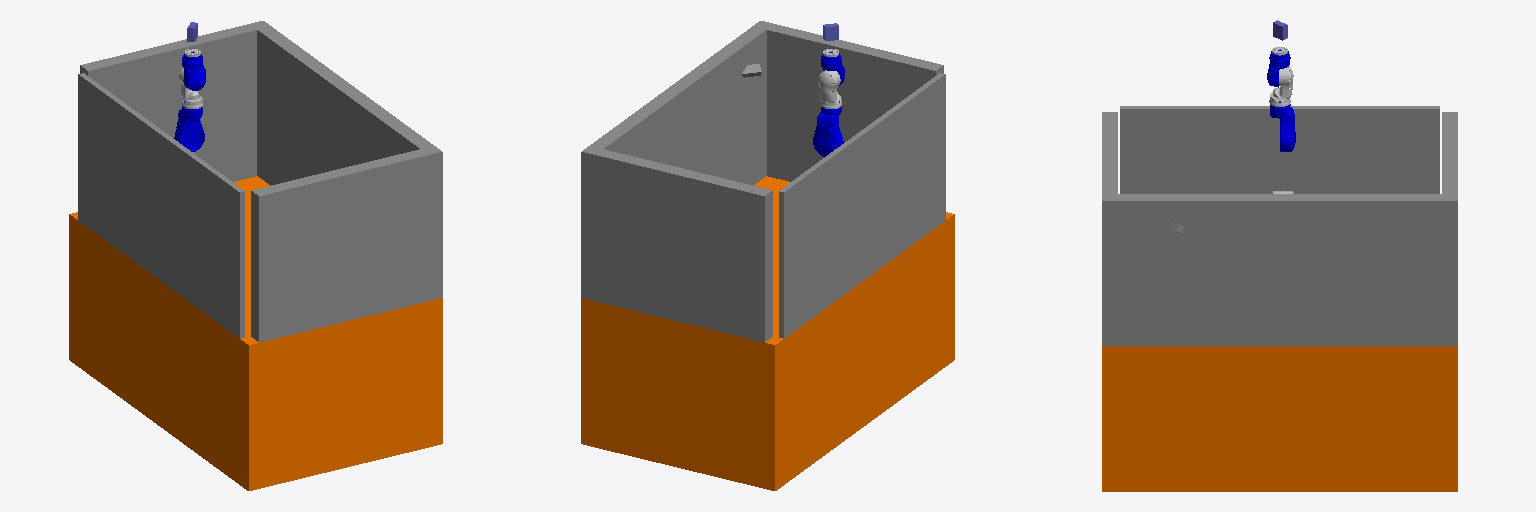
The robot description file, URDF, robot "mantis_sia20d":
<?xml version="1.0" ?>
<!-- =================================================================================== -->
<!-- |    This document was autogenerated by xacro from urdf/mantis_sia20d_arm_workspace.xacro | -->
<!-- |    EDITING THIS FILE BY HAND IS NOT RECOMMENDED                                 | -->
<!-- =================================================================================== -->
<robot name="mantis_sia20d" xmlns:xacro="http://ros.org/wiki/xacro">
  <material name="yellow_transparent">
    <color rgba="0 1 1 0.4"/>
  </material>
  <material name="orange_transparent">
    <color rgba="1 0.5 0 0.4"/>
  </material>
  <material name="gray_transparent">
    <color rgba="0.6 0.6 0.6 0.4"/>
  </material>
  <material name="blue_transparent">
    <color rgba="0 0.8 1 0.4"/>
  </material>
  <link name="workcell_frame"/>
  <!-- property list -->
  <!--xacro:property name="arm1_prefix" value=""/-->
  <!-- instantiating workcell definitions -->
  <link name="table_base1">
    <visual>
      <origin rpy="0 0 0" xyz="0 0 -0.5"/>
      <geometry>
        <box size="1.3875 2.22 1"/>
      </geometry>
      <material name="orange_transparent"/>
    </visual>
    <collision>
      <origin rpy="0 0 0" xyz="0 0 -0.5"/>
      <geometry>
        <box size="1.3875 2.22 1"/>
      </geometry>
      <material name="blue_transparent"/>
    </collision>
  </link>
  <joint name="workcell_to_table_base1" type="fixed">
    <parent link="workcell_frame"/>
    <child link="table_base1"/>
    <origin rpy="0 0 0" xyz="0.69375 0 0"/>
  </joint>
  <link name="front_wall1">
    <visual>
      <geometry>
        <box size="0.1 2.22 1"/>
      </geometry>
      <material name="gray_transparent"/>
    </visual>
    <collision>
      <geometry>
        <box size="0.1 2.22 1"/>
      </geometry>
      <material name="blue_transparent"/>
    </collision>
  </link>
  <joint name="workcell_frame_to_front_wall1" type="fixed">
    <parent link="workcell_frame"/>
    <child link="front_wall1"/>
    <origin rpy="0 0 0" xyz="1.3375 0 0.5"/>
  </joint>
  <link name="back_wall1">
    <visual>
      <geometry>
        <box size="0.04 2.0 1"/>
      </geometry>
      <material name="gray_transparent"/>
    </visual>
    <collision>
      <geometry>
        <box size="0.04 2.0 1"/>
      </geometry>
      <material name="blue_transparent"/>
    </collision>
  </link>
  <joint name="workcell_frame_to_back_wall1" type="fixed">
    <parent link="workcell_frame"/>
    <child link="back_wall1"/>
    <origin rpy="0 0 0" xyz="0.02 0 0.5"/>
  </joint>
  <link name="left_wall1">
    <visual>
      <geometry>
        <box size="1.221 0.1 1"/>
      </geometry>
      <material name="gray_transparent"/>
    </visual>
    <collision>
      <geometry>
        <box size="1.221 0.1 1"/>
      </geometry>
      <material name="blue_transparent"/>
    </collision>
  </link>
  <joint name="workcell_frame_to_left_wall1" type="fixed">
    <parent link="workcell_frame"/>
    <child link="left_wall1"/>
    <origin rpy="0 0 0" xyz="0.687 1.06 0.5"/>
  </joint>
  <link name="right_wall1">
    <visual>
      <geometry>
        <box size="1.221 0.1 1"/>
      </geometry>
      <material name="gray_transparent"/>
    </visual>
    <collision>
      <geometry>
        <box size="1.221 0.1 1"/>
      </geometry>
      <material name="blue_transparent"/>
    </collision>
  </link>
  <joint name="workcell_frame_to_right_wall1" type="fixed">
    <parent link="workcell_frame"/>
    <child link="right_wall1"/>
    <origin rpy="0 0 0" xyz="0.687 -1.06 0.5"/>
  </joint>
  <!-- end of workcell definitions -->
  <!-- instantiating sensor definitions -->
  <!--xacro:sensor_definitions prefix="${arm1_prefix}" parent_link="workcell_frame" 
		x_val="1.20" y_val="0" z_val="0.4" pitch="0.5235" yaw="3.147"/-->
  <material name="sia20d_arm_color_b">
    <color rgba="0 0.8 1 0.4"/>
  </material>
  <material name="sia20d_arm_color_a">
    <color rgba="0.8 0.2 1 0.2"/>
  </material>
  <material name="sia20d_arm_silver">
    <color rgba="0.6 0.6 0.6 1"/>
  </material>
  <link name="sia20d_arm_kinect">
    <collision>
      <material name="sia20d_arm_color_a"/>
      <geometry>
        <box size="0.36 0.28 0.22"/>
      </geometry>
    </collision>
  </link>
  <link name="sia20d_arm_kinect_keepout">
    <collision>
      <material name="sia20d_arm_color_b"/>
      <geometry>
        <box size="0.2 0.32 0.9"/>
      </geometry>
    </collision>
  </link>
  <link name="sia20d_arm_kinect_frame">
    <visual>
      <origin rpy="0 0 0" xyz="0 0 0"/>
      <geometry>
        <box size="0.064 0.28 0.04"/>
      </geometry>
      <material name="sia20d_arm_silver"/>
    </visual>
    <collision>
      <origin rpy="0 0 0" xyz="0 0 0"/>
      <geometry>
        <box size="0.064 0.28 0.04"/>
      </geometry>
    </collision>
  </link>
  <link name="sia20d_arm_kinect_ir_link">
    <visual>
      <origin rpy="0 0 0" xyz="0 0 0"/>
      <geometry>
        <sphere radius="0.0005"/>
      </geometry>
    </visual>
  </link>
  <link name="sia20d_arm_kinect_rgb_link">
    <visual>
      <origin rpy="0 0 0" xyz="0 0 0"/>
      <geometry>
        <sphere radius="0.0005"/>
      </geometry>
    </visual>
  </link>
  <link name="sia20d_arm_kinect_ir_optical_frame"/>
  <link name="sia20d_arm_kinect_rgb_optical_frame"/>
  <joint name="sia20d_arm_kinect_frame_joint" type="fixed">
    <parent link="sia20d_arm_kinect"/>
    <child link="sia20d_arm_kinect_frame"/>
    <origin rpy="0 0 0" xyz="0 0 0"/>
  </joint>
  <joint name="sia20d_arm_kinect_ir_joint" type="fixed">
    <parent link="sia20d_arm_kinect_frame"/>
    <child link="sia20d_arm_kinect_ir_link"/>
    <origin rpy="0 0 0" xyz="0 0 0"/>
  </joint>
  <joint name="sia20d_arm_kinect_ir_optical_frame_joint" type="fixed">
    <parent link="sia20d_arm_kinect_ir_link"/>
    <child link="sia20d_arm_kinect_ir_optical_frame"/>
    <origin rpy="-1.57 0 -1.57" xyz="0 0 0"/>
  </joint>
  <joint name="sia20d_arm_kinect_rgb_joint" type="fixed">
    <parent link="sia20d_arm_kinect_ir_link"/>
    <child link="sia20d_arm_kinect_rgb_link"/>
    <origin rpy="0 0 0" xyz="0 -0.03 0"/>
  </joint>
  <joint name="sia20d_arm_kinect_rgb_optical_frame_joint" type="fixed">
    <parent link="sia20d_arm_kinect_rgb_link"/>
    <child link="sia20d_arm_kinect_rgb_optical_frame"/>
    <origin rpy="-1.57 0 -1.57" xyz="0 0 0"/>
  </joint>
  <joint name="sia20d_arm_sia20d_arm_base_link_to_kinect" type="fixed">
    <parent link="sia20d_arm_base_link"/>
    <child link="sia20d_arm_kinect"/>
    <origin rpy="0 0.5235 2.356" xyz="1.08 -0.72 0.82"/>
  </joint>
  <joint name="sia20d_arm_sia20d_arm_base_link_to_kinect_keepout" type="fixed">
    <parent link="sia20d_arm_base_link"/>
    <child link="sia20d_arm_kinect_keepout"/>
    <origin rpy="0 0 2.356" xyz="1.08 -0.72 0.45"/>
  </joint>
  <!-- end of sensor definitions -->
  <!-- instantiating arm and gripper -->
  <link name="sia20d_arm_palm">
    <visual>
      <origin rpy="0 0 0" xyz="0 0.036 -0.0473"/>
      <geometry>
        <box size="0.044 0.088 0.0946"/>
      </geometry>
      <material name="another_blue1">
        <color rgba="0.40 0.40 0.80 1"/>
      </material>
    </visual>
    <collision>
      <origin rpy="0 0 0" xyz="0 0.036 -0.0473"/>
      <geometry>
        <box size="0.044 0.088 0.0946"/>
      </geometry>
      <material name="another_blue2">
        <color rgba="0.38 0.54 0.83 1"/>
      </material>
    </collision>
  </link>
  <link name="sia20d_arm_base_link">
    <visual>
      <geometry>
        <mesh filename="package://motoman_config/meshes/sia20d/visual/MOTOMAN_BASE.stl"/>
      </geometry>
      <material name="blue">
        <color rgba="0 0 1 1"/>
      </material>
    </visual>
    <collision>
      <geometry>
        <mesh filename="package://motoman_config/meshes/sia20d/collision/MOTOMAN_BASE.stl"/>
      </geometry>
      <material name="yellow">
        <color rgba="0 1 1 1"/>
      </material>
    </collision>
  </link>
  <link name="sia20d_arm_link_s">
    <visual>
      <origin rpy="0 0 3.1416" xyz="0 0 0"/>
      <geometry>
        <mesh filename="package://motoman_config/meshes/sia20d/visual/MOTOMAN_AXIS_S.stl"/>
      </geometry>
      <material name="silver">
        <color rgba="0.8 0.8 0.8 1"/>
      </material>
    </visual>
    <collision>
      <origin rpy="0 0 3.1416" xyz="0 0 0"/>
      <geometry>
        <mesh filename="package://motoman_config/meshes/sia20d/collision/MOTOMAN_AXIS_S.stl"/>
      </geometry>
      <material name="yellow"/>
    </collision>
  </link>
  <link name="sia20d_arm_link_l">
    <visual>
      <origin rpy="1.57 3.1416 3.1416" xyz="0 0 0"/>
      <geometry>
        <mesh filename="package://motoman_config/meshes/sia20d/visual/MOTOMAN_AXIS_L.stl"/>
      </geometry>
      <material name="blue"/>
    </visual>
    <collision>
      <origin rpy="1.57 3.1416 3.1416" xyz="0 0 0"/>
      <geometry>
        <mesh filename="package://motoman_config/meshes/sia20d/collision/MOTOMAN_AXIS_L.stl"/>
      </geometry>
      <material name="yellow"/>
    </collision>
  </link>
  <link name="sia20d_arm_link_e">
    <visual>
      <origin rpy="0 0 0" xyz="0 0 0"/>
      <geometry>
        <mesh filename="package://motoman_config/meshes/sia20d/visual/MOTOMAN_AXIS_E.stl"/>
      </geometry>
      <material name="silver"/>
    </visual>
    <collision>
      <origin rpy="0 0 0" xyz="0 0 0"/>
      <geometry>
        <mesh filename="package://motoman_config/meshes/sia20d/collision/MOTOMAN_AXIS_E.stl"/>
      </geometry>
      <material name="yellow"/>
    </collision>
  </link>
  <link name="sia20d_arm_link_u">
    <visual>
      <origin rpy="1.57 -3.1415 3.1416" xyz="0 0 0"/>
      <geometry>
        <mesh filename="package://motoman_config/meshes/sia20d/visual/MOTOMAN_AXIS_U.stl"/>
      </geometry>
      <material name="blue"/>
    </visual>
    <collision>
      <origin rpy="1.57 -3.1415 3.1416" xyz="0 0 0"/>
      <geometry>
        <mesh filename="package://motoman_config/meshes/sia20d/collision/MOTOMAN_AXIS_U.stl"/>
      </geometry>
      <material name="yellow"/>
    </collision>
  </link>
  <link name="sia20d_arm_link_r">
    <visual>
      <origin rpy="0 0 0" xyz="0 0 0"/>
      <geometry>
        <mesh filename="package://motoman_config/meshes/sia20d/visual/MOTOMAN_AXIS_R.stl"/>
      </geometry>
      <material name="silver"/>
    </visual>
    <collision>
      <origin rpy="0 0 0" xyz="0 0 0"/>
      <geometry>
        <mesh filename="package://motoman_config/meshes/sia20d/collision/MOTOMAN_AXIS_R.stl"/>
      </geometry>
      <material name="yellow"/>
    </collision>
  </link>
  <link name="sia20d_arm_link_b">
    <visual>
      <origin rpy="-1.57 0 0" xyz="0 0 0"/>
      <geometry>
        <mesh filename="package://motoman_config/meshes/sia20d/visual/MOTOMAN_AXIS_B.stl"/>
      </geometry>
      <material name="blue"/>
    </visual>
    <collision>
      <origin rpy="-1.57 0 0" xyz="0 0 0"/>
      <geometry>
        <mesh filename="package://motoman_config/meshes/sia20d/collision/MOTOMAN_AXIS_B.stl"/>
      </geometry>
      <material name="yellow"/>
    </collision>
  </link>
  <link name="sia20d_arm_link_t">
    <visual>
      <geometry>
        <mesh filename="package://motoman_config/meshes/sia20d/visual/MOTOMAN_AXIS_T.stl"/>
      </geometry>
      <material name="silver"/>
    </visual>
    <collision>
      <geometry>
        <mesh filename="package://motoman_config/meshes/sia20d/collision/MOTOMAN_AXIS_T.stl"/>
      </geometry>
      <material name="yellow"/>
    </collision>
  </link>
  <joint name="joint_s" type="revolute">
    <parent link="sia20d_arm_base_link"/>
    <child link="sia20d_arm_link_s"/>
    <origin rpy="0 0 0" xyz="0 0 0.41"/>
    <axis xyz="0 0 1"/>
    <limit effort="100" lower="-3.1416" upper="3.1416" velocity="2.26"/>
  </joint>
  <joint name="joint_l" type="revolute">
    <parent link="sia20d_arm_link_s"/>
    <child link="sia20d_arm_link_l"/>
    <origin rpy="0 0 0" xyz="0 0 0"/>
    <axis xyz="0 1 0"/>
    <limit effort="100" lower="-1.91" upper="1.91" velocity="2.26"/>
  </joint>
  <joint name="joint_e" type="revolute">
    <parent link="sia20d_arm_link_l"/>
    <child link="sia20d_arm_link_e"/>
    <origin rpy="0 0 0" xyz="0 0 0.49"/>
    <axis xyz="0 0 1"/>
    <limit effort="100" lower="-2.96" upper="2.96" velocity="2.96"/>
  </joint>
  <joint name="joint_u" type="revolute">
    <parent link="sia20d_arm_link_e"/>
    <child link="sia20d_arm_link_u"/>
    <origin rpy="0 0 0" xyz="0 0 0"/>
    <axis xyz="0 -1 0"/>
    <limit effort="100" lower="-2.26" upper="2.26" velocity="2.96"/>
  </joint>
  <joint name="joint_r" type="revolute">
    <parent link="sia20d_arm_link_u"/>
    <child link="sia20d_arm_link_r"/>
    <origin rpy="0 0 0" xyz="0 0 0.420"/>
    <axis xyz="0 0 -1"/>
    <limit effort="100" lower="-3.1416" upper="3.1416" velocity="3.48"/>
  </joint>
  <joint name="joint_b" type="revolute">
    <parent link="sia20d_arm_link_r"/>
    <child link="sia20d_arm_link_b"/>
    <origin rpy="0 0 0" xyz="0 0 0"/>
    <axis xyz="0 -1 0"/>
    <limit effort="100" lower="-1.91" upper="1.91" velocity="3.48"/>
  </joint>
  <joint name="joint_t" type="revolute">
    <parent link="sia20d_arm_link_b"/>
    <child link="sia20d_arm_link_t"/>
    <origin rpy="0 0 0" xyz="0 0 0.18"/>
    <axis xyz="0 0 -1"/>
    <limit effort="100" lower="-3.1416" upper="3.1416" velocity="6.97"/>
  </joint>
  <!-- arm-workcell joint definitions -->
  <joint name="sia20d_to_workcell" type="fixed">
    <parent link="workcell_frame"/>
    <child link="sia20d_arm_base_link"/>
    <origin rpy="0 0 0" xyz="0.241 0 0"/>
  </joint>
  <!-- end of arm workcell joint definitions-->
  <!-- arm-gripper coupling link definitions-->
  <link name="sia20d_arm_coupler">
    <visual>
      <geometry>
        <mesh filename="package://longhorn/meshes/coupler/visual/COUPLER.stl"/>
      </geometry>
      <material name="orange">
        <color rgba="1 0.5 0 1"/>
      </material>
    </visual>
    <collision>
      <geometry>
        <mesh filename="package://longhorn/meshes/coupler/collision/COUPLER.stl"/>
      </geometry>
      <material name="yellow">
        <color rgba="0 1 1 1"/>
      </material>
    </collision>
  </link>
  <!-- end of arm-gripper coupling link definitions -->
  <!-- arm-gripper coupling joint definitions -->
  <joint name="tool-coupler" type="fixed">
    <parent link="sia20d_arm_link_t"/>
    <child link="sia20d_arm_coupler"/>
    <origin rpy="1.570 0 -0.785" xyz="0 0 0"/>
  </joint>
  <joint name="coupler-hand" type="fixed">
    <parent link="sia20d_arm_coupler"/>
    <child link="sia20d_arm_palm"/>
    <origin rpy="-1.570 0 0" xyz="0 0.182 0.036"/>
  </joint>
  <!-- end of arm-gripper coupling joint definitions -->
</robot>

--- What the picture shows (computed from the rendered views, not written in the file) ---
3 views of the same robot in one strip: view 1: azimuth 30°, elevation 25°; view 2: azimuth 150°, elevation 25°; view 3: azimuth 270°, elevation 25° (orthographic).
Robot: mantis_sia20d — 23 links, 22 joints (7 revolute, 15 fixed); root link workcell_frame; default pose: all joints at 0.
Visible links, largest first — view 1: table_base1, right_wall1, back_wall1, front_wall1, left_wall1, sia20d_arm_link_u, sia20d_arm_link_b; view 2: table_base1, left_wall1, back_wall1, front_wall1, right_wall1, sia20d_arm_link_u, sia20d_arm_link_r; view 3: front_wall1, table_base1, back_wall1, right_wall1, left_wall1, sia20d_arm_link_u, sia20d_arm_link_r.
Link boxes in pixels (<box>): table_base1: <box>69,176,442,490</box>; right_wall1: <box>251,149,428,342</box>; back_wall1: <box>78,73,244,338</box>; front_wall1: <box>250,21,442,300</box>; left_wall1: <box>80,24,258,181</box>; sia20d_arm_link_u: <box>174,101,204,151</box>; sia20d_arm_link_b: <box>182,52,205,90</box>; table_base1: <box>581,176,954,490</box>; left_wall1: <box>594,149,772,342</box>; back_wall1: <box>779,73,945,338</box>; front_wall1: <box>581,21,773,300</box>; right_wall1: <box>765,24,943,181</box>; sia20d_arm_link_u: <box>813,101,843,156</box>; sia20d_arm_link_r: <box>818,70,841,108</box>; front_wall1: <box>1102,194,1457,345</box>; table_base1: <box>1102,346,1457,491</box>; back_wall1: <box>1120,106,1439,193</box>; right_wall1: <box>1102,112,1117,194</box>; left_wall1: <box>1442,112,1457,194</box>; sia20d_arm_link_u: <box>1270,101,1295,151</box>; sia20d_arm_link_r: <box>1269,66,1293,106</box>.
Bounding box of the posed robot: 1.45 × 2.22 × 2.68 m (x, y, z).
6 mesh visuals loaded from 9 distinct referenced files (6 binary STL); not drawn: 3 (reference not matched to a file when rendering).